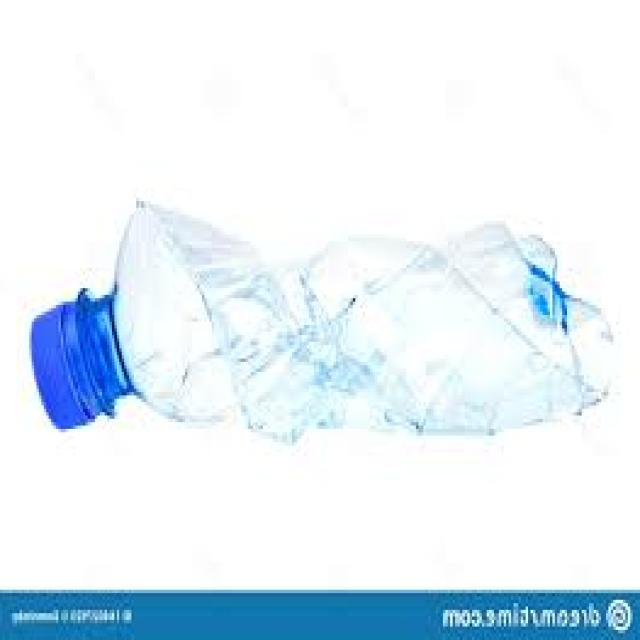plastic: (26, 193, 619, 447)
